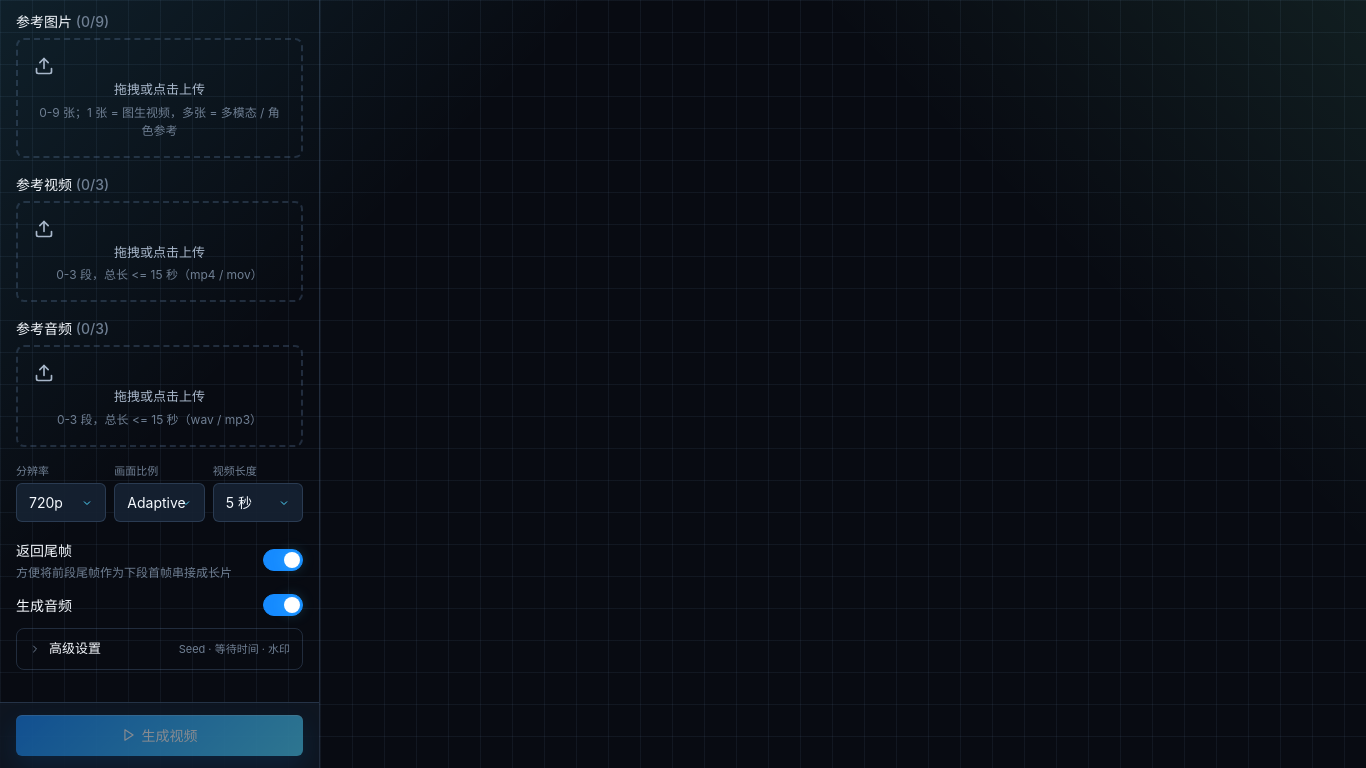
Test: VideoParams — 高级设置 collapse › clicking the header expands the section and toggles aria-expanded
(page scrolled)
Click the button "高级设置 Seed · 等待时间 · 水印". click: coordinates (75, 648)
box: x1=17 y1=629 x2=302 y2=668
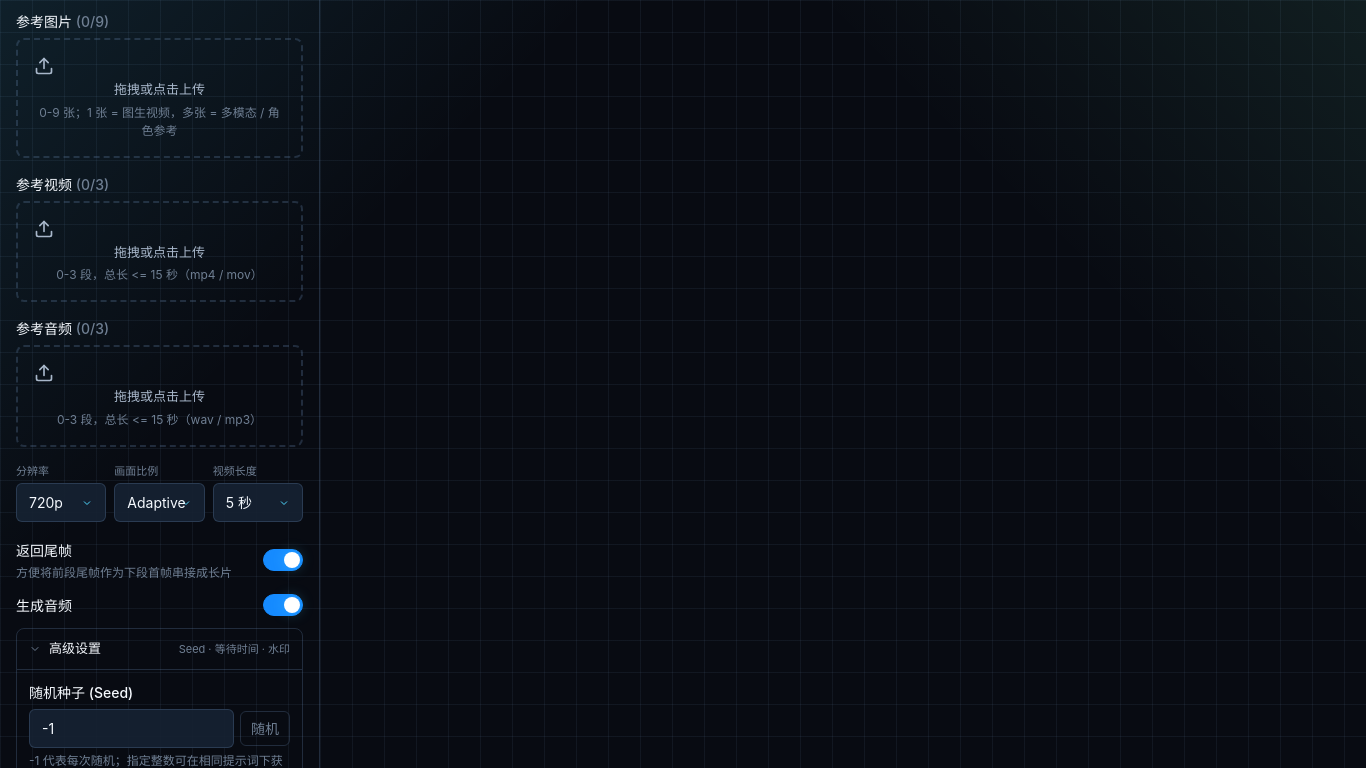
Expected: the number field labelled "随机种子 (Seed)" is shown, x1=29 y1=708 x2=234 y2=748
Click the button "高级设置 Seed · 等待时间 · 水印". click: coordinates (75, 648)
box: x1=17 y1=629 x2=302 y2=668
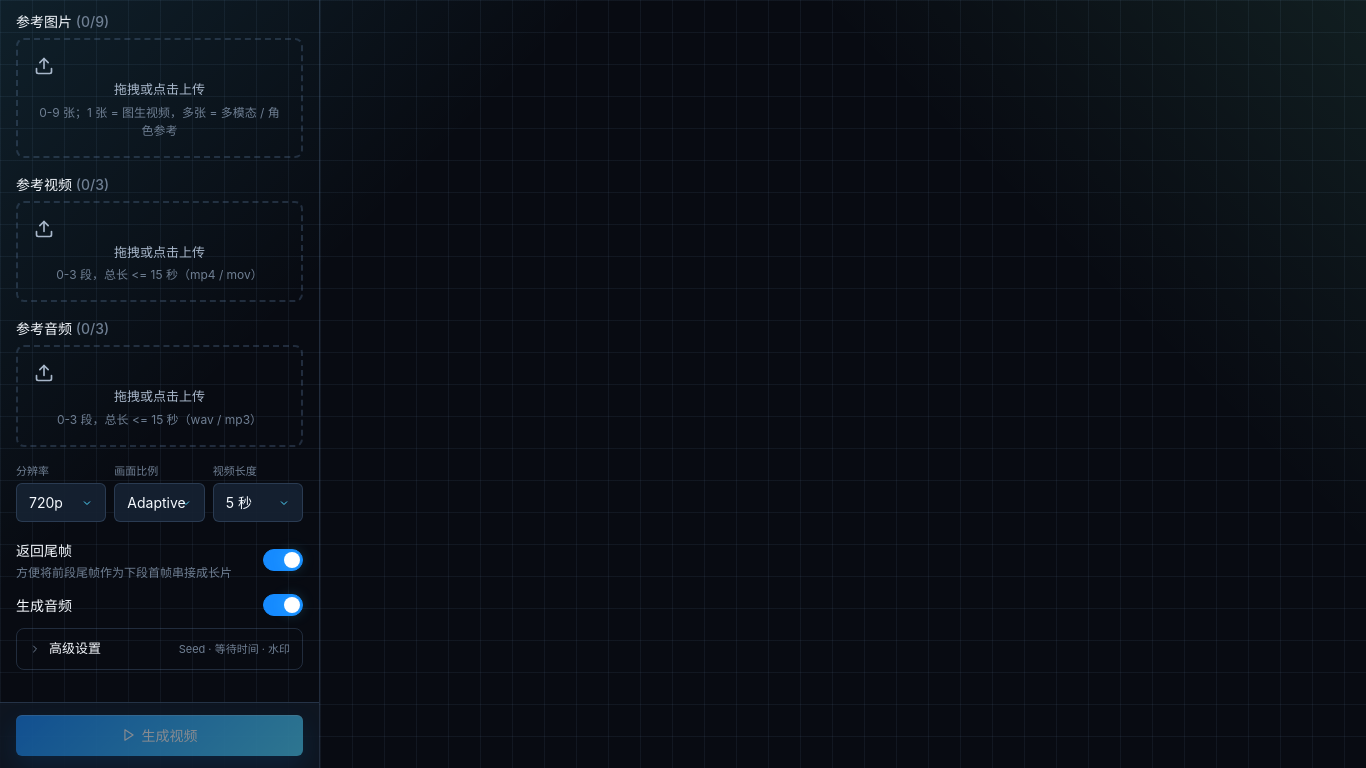
Expected: the label labelled "随机种子 (Seed)" is gone
